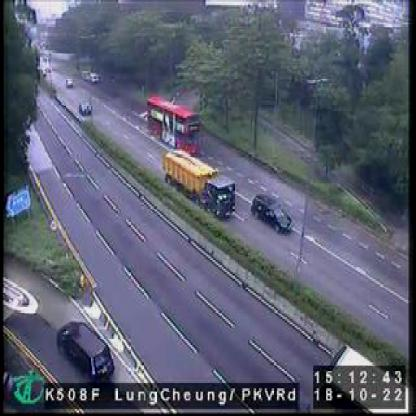Bus: (146, 96, 201, 156)
Car: (58, 320, 115, 384), (251, 195, 295, 235), (78, 98, 93, 117), (66, 75, 76, 88)
Truck: (164, 148, 234, 219)
